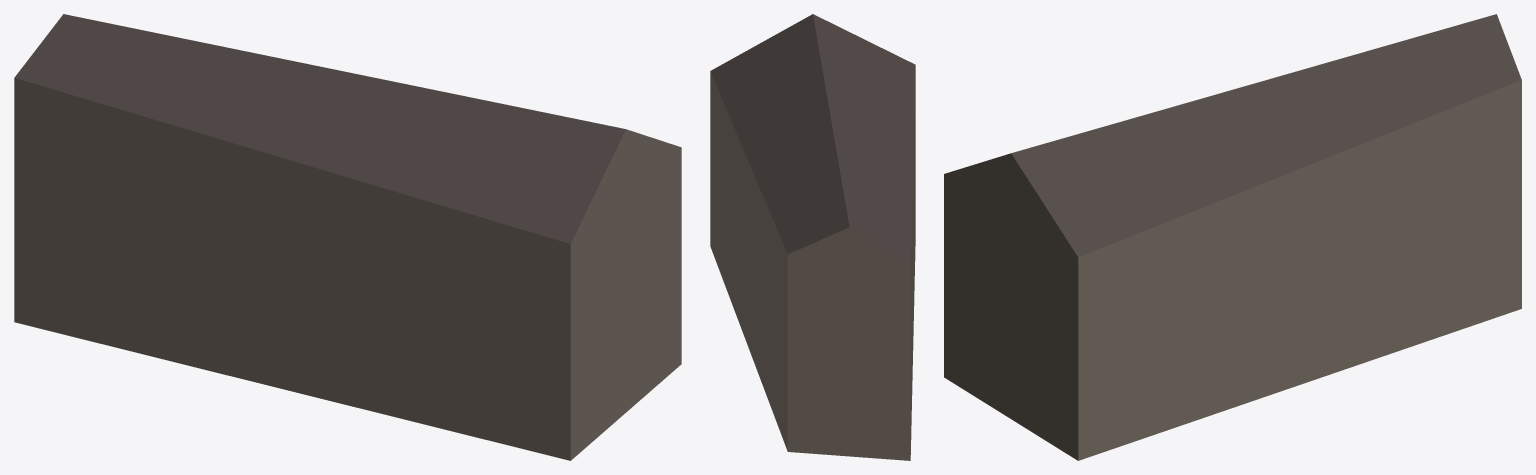
The picture shows the model from 3 angles, left to right: view 1: azimuth 30°, elevation 25°; view 2: azimuth 150°, elevation 25°; view 3: azimuth 270°, elevation 25°; orthographic projection. The views are drawn at different scales.
Parts seen in each view (by area): view 1: HP-w1198840852; view 2: HP-w1198840852; view 3: HP-w1198840852.
Part boxes in pixels (x1=…): HP-w1198840852: x1=14, y1=14, x2=681, y2=460; HP-w1198840852: x1=710, y1=14, x2=915, y2=460; HP-w1198840852: x1=944, y1=14, x2=1521, y2=460.
Size of the model in its own units: 13.24 by 7.84 by 15.43.
